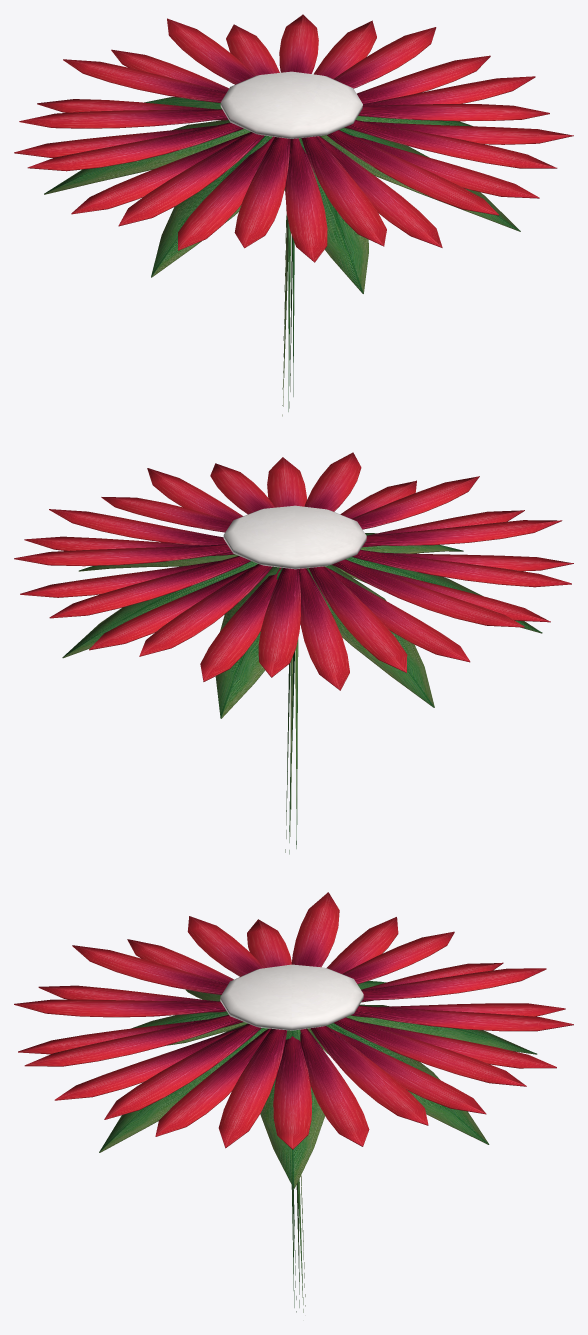
3 renders of one model, top to bottom at view 1: azimuth 30°, elevation 25°; view 2: azimuth 150°, elevation 25°; view 3: azimuth 270°, elevation 25°, orthographic.
Visible parts, largest first — view 1: dfdd87f0; view 2: dfdd87f0; view 3: dfdd87f0.
Boxes of the visible parts, box(x1,y1,x2,y2) form: dfdd87f0: box(14, 14, 573, 416); dfdd87f0: box(14, 452, 573, 854); dfdd87f0: box(14, 892, 573, 1312).
Bounding box in the file's own units: 0.1394 × 0.0896 × 0.1368.
Materials: 3 (3 with a texture image).
